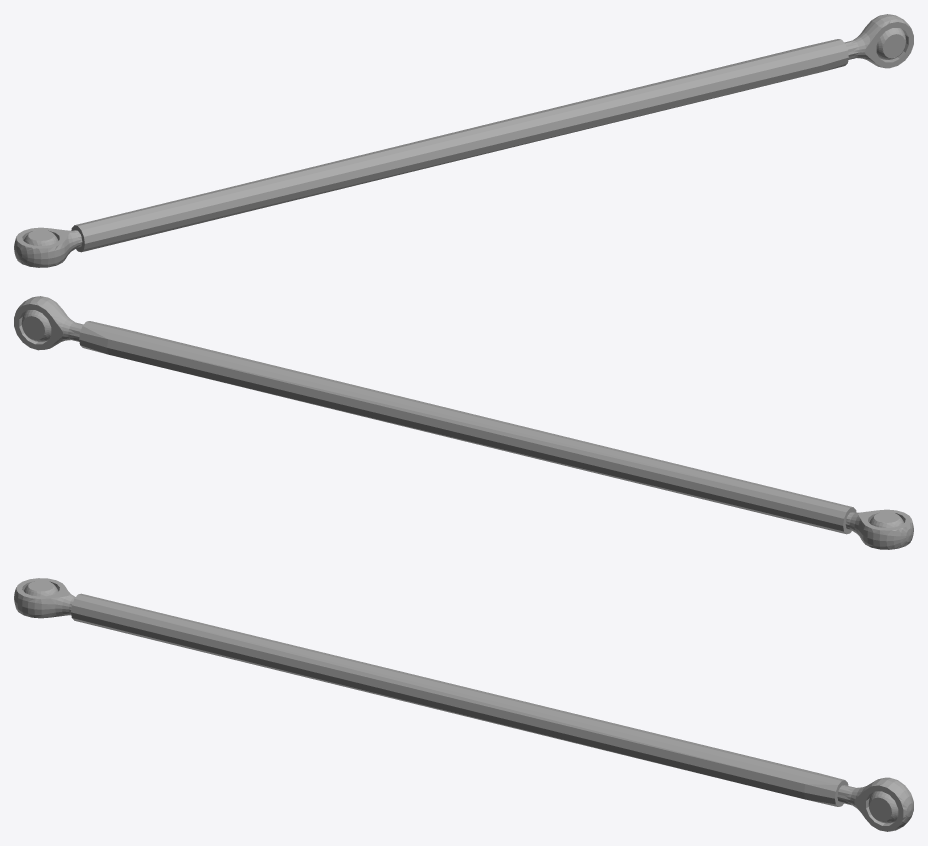
File: toe-B-rod.obj
3 views of the same model, one above another, from view 1: azimuth 30°, elevation 25°; view 2: azimuth 150°, elevation 25°; view 3: azimuth 330°, elevation 25° (orthographic).
Visible parts, largest first — view 1: toe-B-rod; view 2: toe-B-rod; view 3: toe-B-rod.
Part boxes in pixels (x1,y1,x2,y2): toe-B-rod: [14, 14, 913, 267]; toe-B-rod: [14, 296, 913, 549]; toe-B-rod: [14, 578, 913, 831].
Bounding box in the file's own units: 0.304 × 0.016 × 0.016.
1 material, 1 textured.
